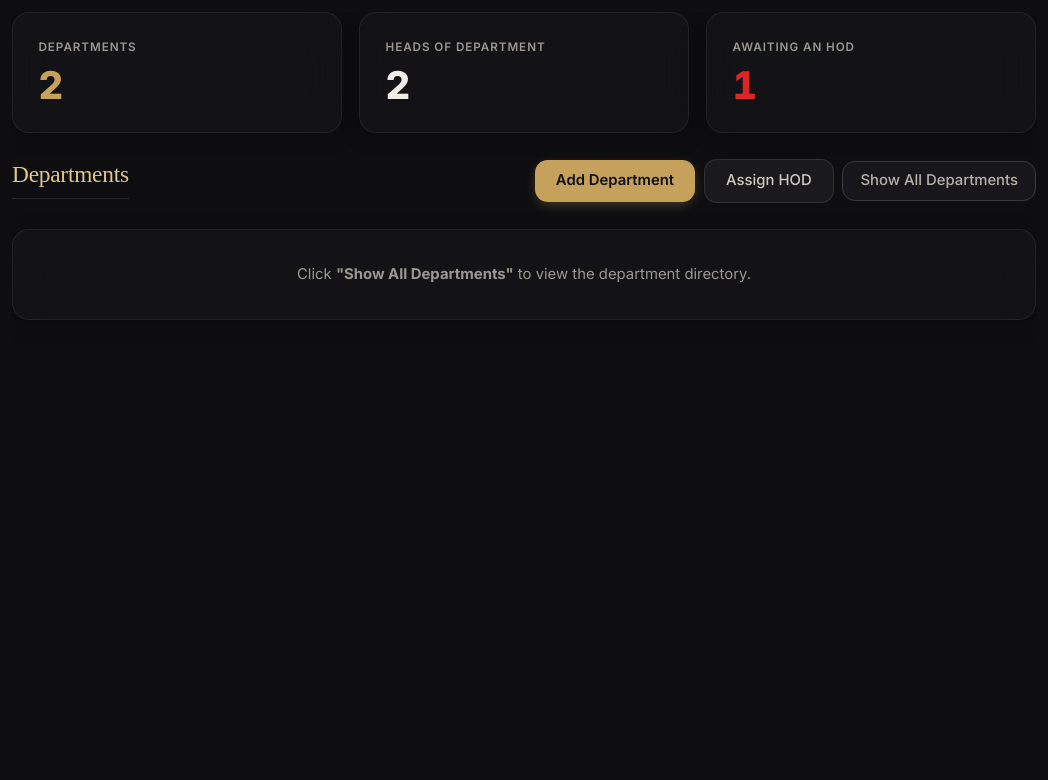
it: Departments tab — HOD directory › closes the directory when the figure is clicked again
Expected: the text "Heads of Department" is shown, [386, 38, 546, 56]
What coordinates should you click on to do the following:
click the button "Heads of Department 2"
I would click on:
 (466, 46)
Its box is [359, 12, 689, 133].
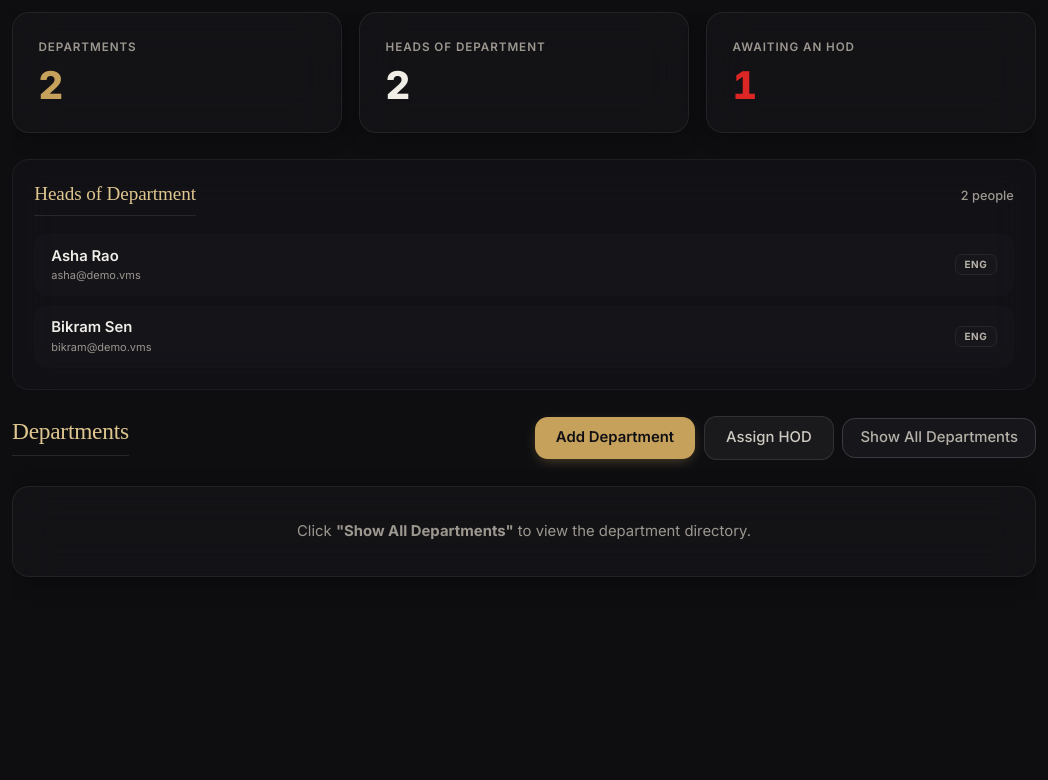
Expected: the text "Asha Rao" is shown, [51, 246, 119, 264]
What coordinates should you click on to do the following:
click the button "Heads of Department 2"
I would click on:
 (466, 46)
Its box is [359, 12, 689, 133].
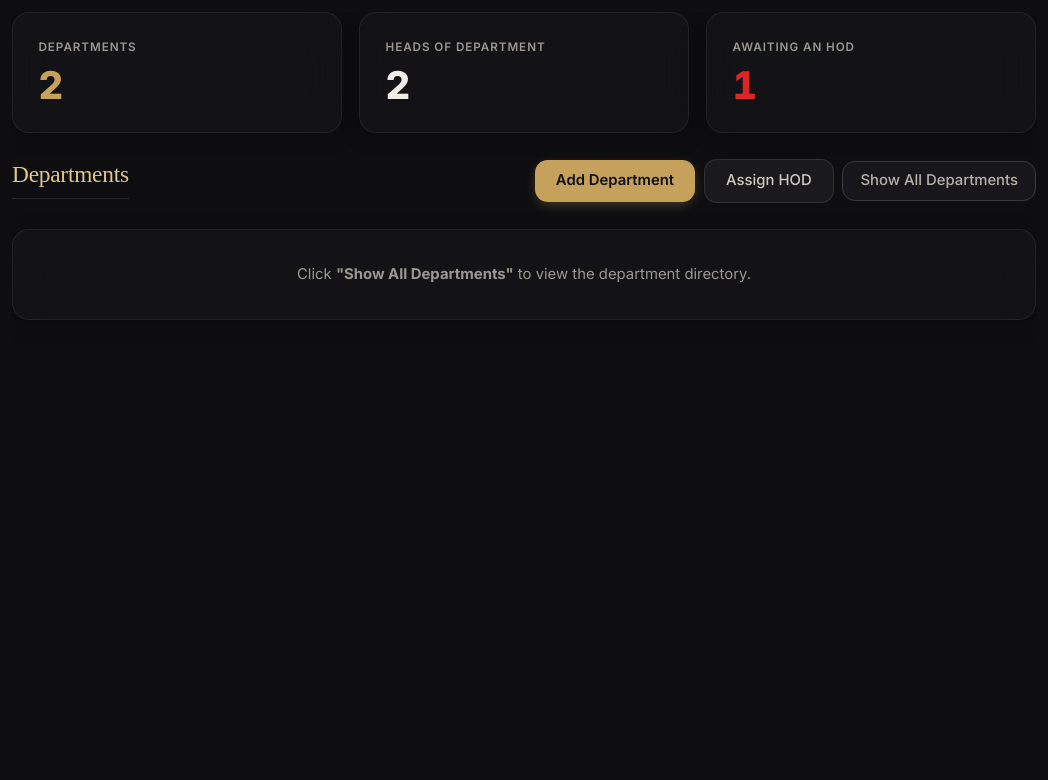
Expected: the text "Asha Rao" is gone
